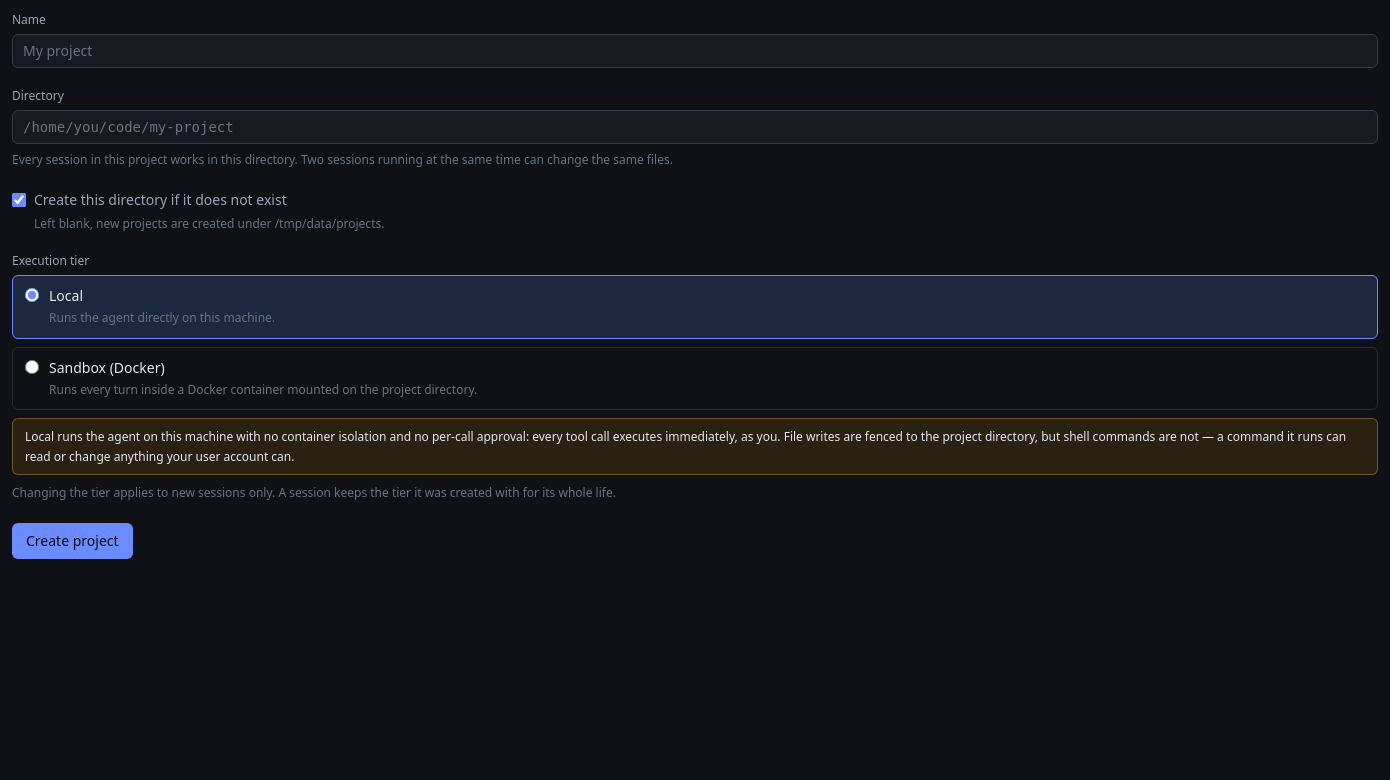
Scenario: creating a project › rejects a relative directory before the request is made
The image size is (1390, 780).
Type "Demo" into the field labelled "Name" at (695, 51), box [12,34,1378,68]
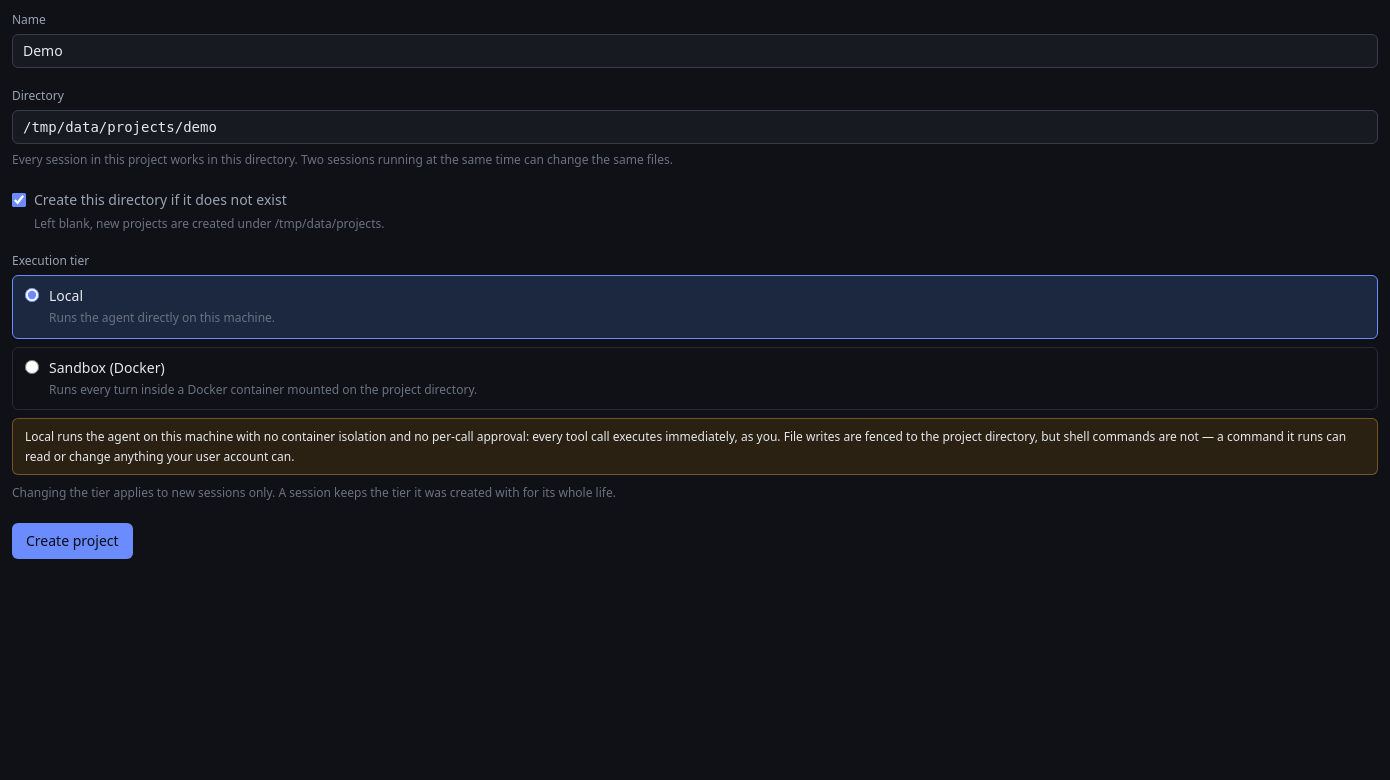
Replace the text in the field labelled "Directory" with "code/demo" at (695, 127), box [12,110,1378,144]
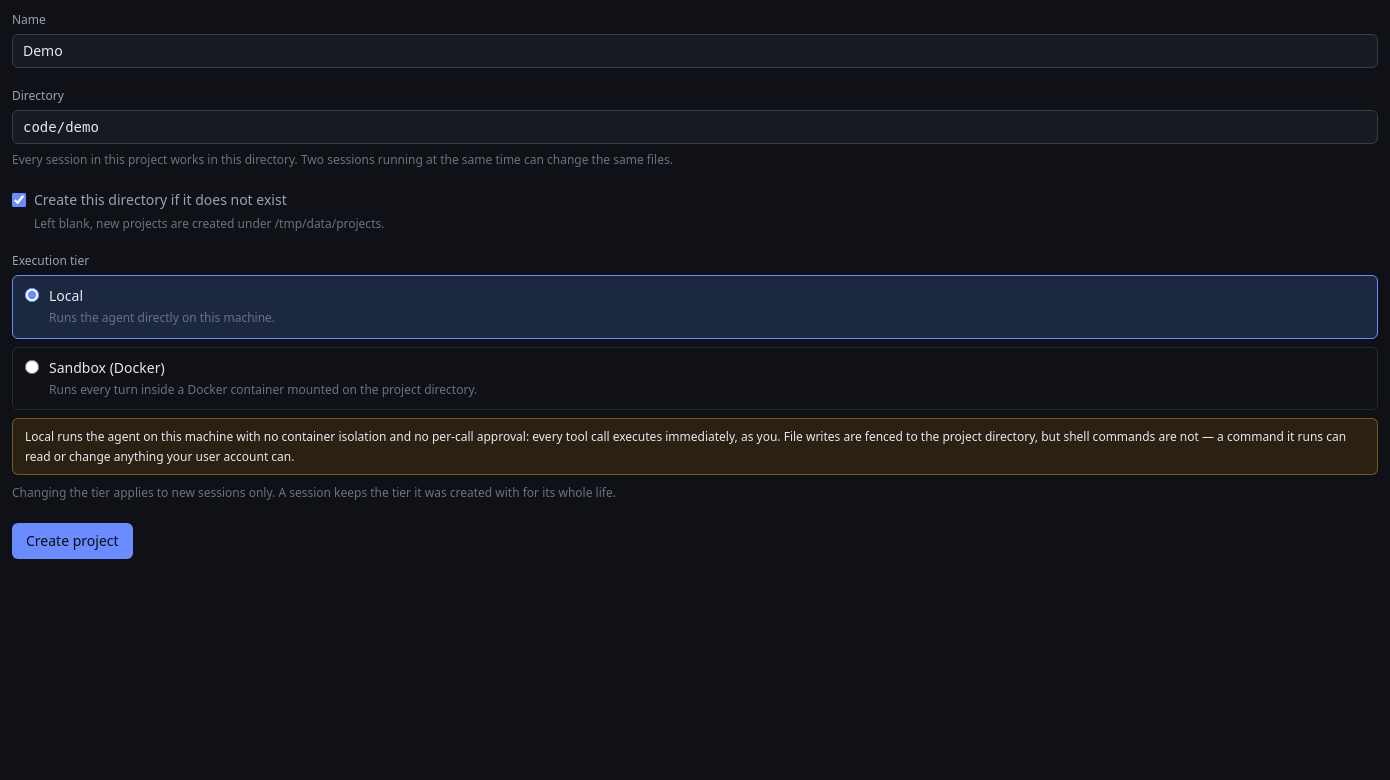
Click the button "Create project" at (72, 540), box [12,522,133,558]
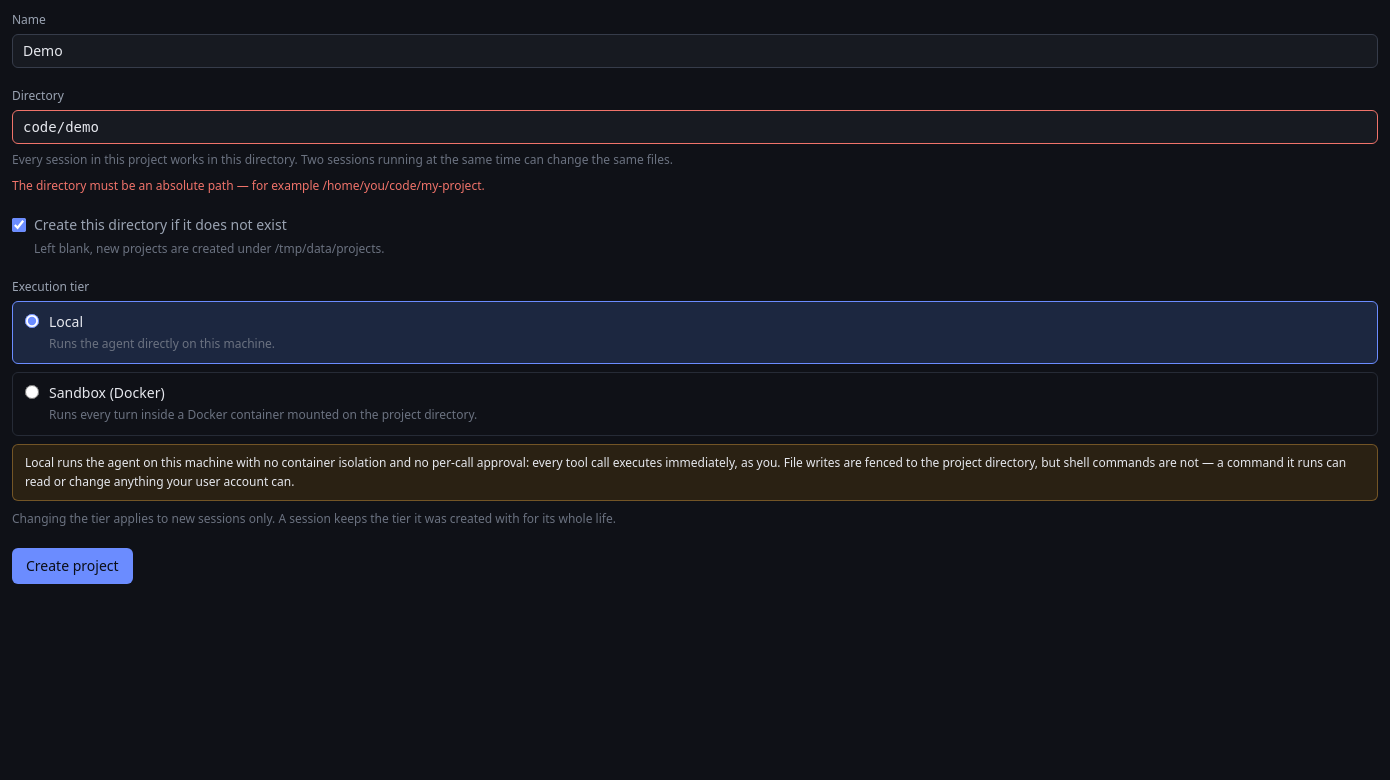
Check: the message shows "absolute path", box [12,176,485,194]
